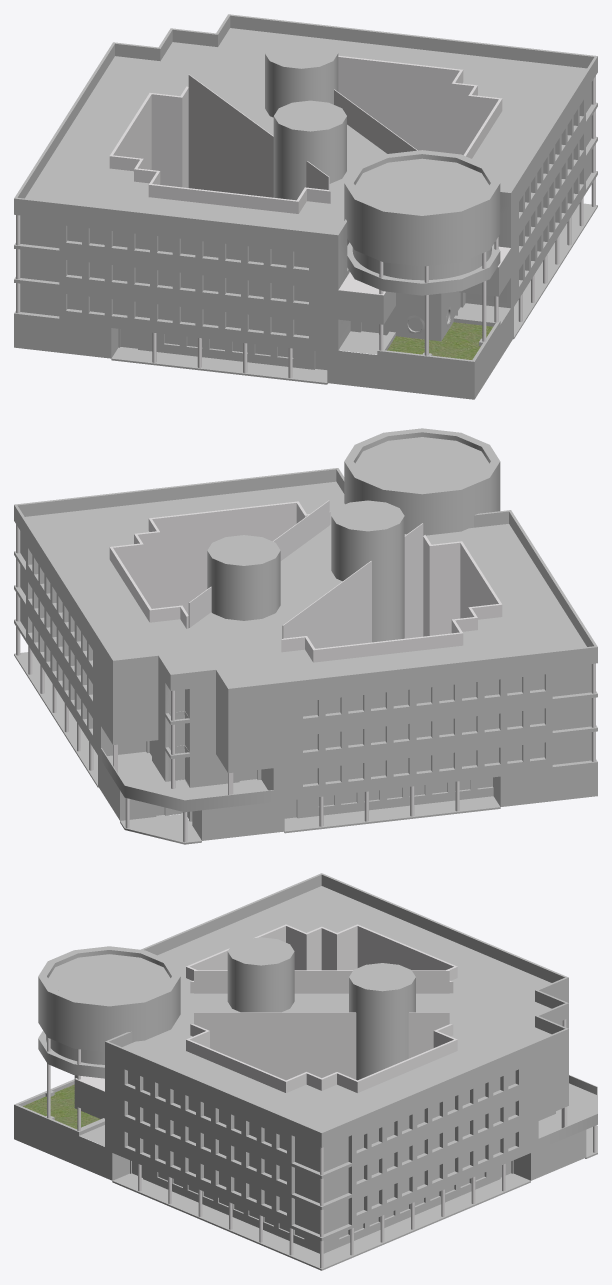
File: RECTORADO.FBX
The picture shows the model from 3 angles, top to bottom: view 1: azimuth 30°, elevation 25°; view 2: azimuth 150°, elevation 25°; view 3: azimuth 270°, elevation 25°; orthographic projection. The views are drawn at different scales.
Parts seen in each view (by area): view 1: CARAVISTA BLANCO, SUELO TERRAZA, BLANCO MATE, VEN_AZUL, VENTANAL_AZUL, CARAVISTA_BLANCOAGUJEROS, CESPED, VEN_AZUL_GRANDE, PUECE_AZUL; view 2: CARAVISTA BLANCO, SUELO TERRAZA, BLANCO MATE, VEN_AZUL, CARAVISTA_BLANCOAGUJEROS, VENTANAL_AZUL, PAVES; view 3: CARAVISTA BLANCO, SUELO TERRAZA, BLANCO MATE, VEN_AZUL, VENTANAL_AZUL, CARAVISTA_BLANCOAGUJEROS, CESPED, VEN_AZUL_GRANDE.
Boxes of the visible parts, left/top/right/bottom form: CARAVISTA BLANCO: left=14, top=14, right=597, bottom=399; SUELO TERRAZA: left=25, top=28, right=597, bottom=384; BLANCO MATE: left=16, top=55, right=595, bottom=378; VEN_AZUL: left=67, top=226, right=308, bottom=357; VENTANAL_AZUL: left=20, top=83, right=591, bottom=316; CARAVISTA_BLANCOAGUJEROS: left=338, top=249, right=510, bottom=324; CESPED: left=387, top=322, right=492, bottom=359; VEN_AZUL_GRANDE: left=352, top=247, right=491, bottom=280; PUECE_AZUL: left=120, top=292, right=460, bottom=369; CARAVISTA BLANCO: left=14, top=428, right=597, bottom=840; SUELO TERRAZA: left=14, top=437, right=586, bottom=844; BLANCO MATE: left=16, top=500, right=595, bottom=842; VEN_AZUL: left=303, top=674, right=544, bottom=805; CARAVISTA_BLANCOAGUJEROS: left=101, top=655, right=273, bottom=773; VENTANAL_AZUL: left=20, top=531, right=591, bottom=764; PAVES: left=168, top=688, right=189, bottom=818; CARAVISTA BLANCO: left=14, top=873, right=597, bottom=1253; SUELO TERRAZA: left=48, top=886, right=597, bottom=1270; BLANCO MATE: left=47, top=924, right=596, bottom=1268; VEN_AZUL: left=128, top=1071, right=515, bottom=1237; VENTANAL_AZUL: left=295, top=1137, right=348, bottom=1234; CARAVISTA_BLANCOAGUJEROS: left=74, top=989, right=568, bottom=1118; CESPED: left=23, top=1084, right=100, bottom=1129; VEN_AZUL_GRANDE: left=46, top=1035, right=104, bottom=1064.
Size of the model in its own units: 71.74 by 22.7 by 68.06.
